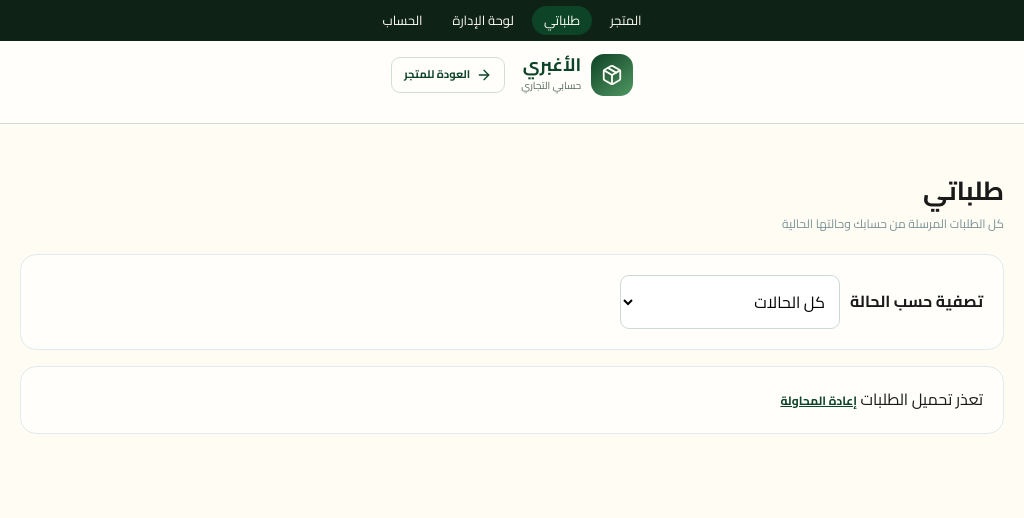
Test case: customer order-list real route acceptance › fails closed on an order query error and retries through the real action
This screenshot has width=1024, height=518.
Check: the message "تعذر تحميل الطلبات إعادة المحاولة" is shown, box left=20, top=366, right=1004, bottom=434
Click the button "إعادة المحاولة": click(819, 401) left=780, top=391, right=857, bottom=410
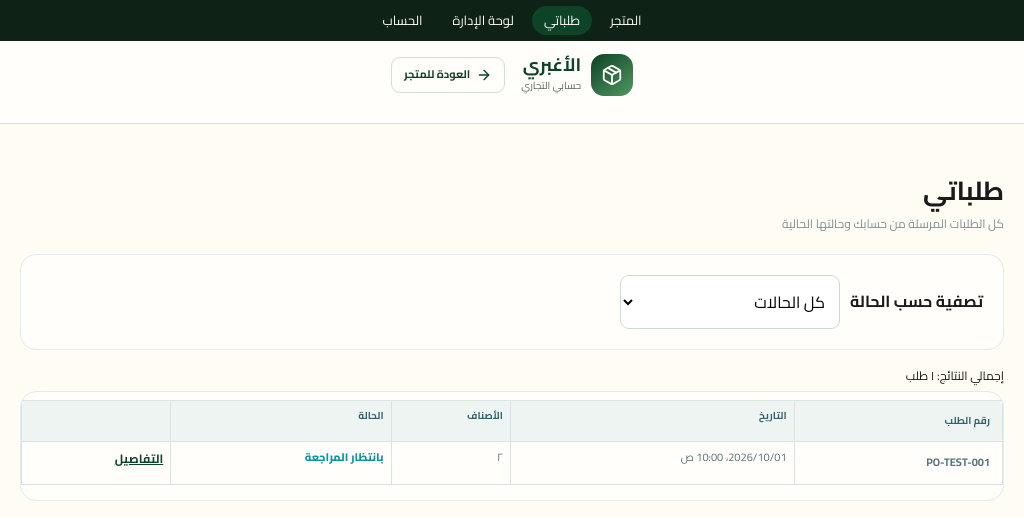
Check: the message "تعذر تحميل الطلبات إعادة المحاولة" is gone
Check: the text "PO-TEST-001" is shown, box left=794, top=442, right=1002, bottom=484
